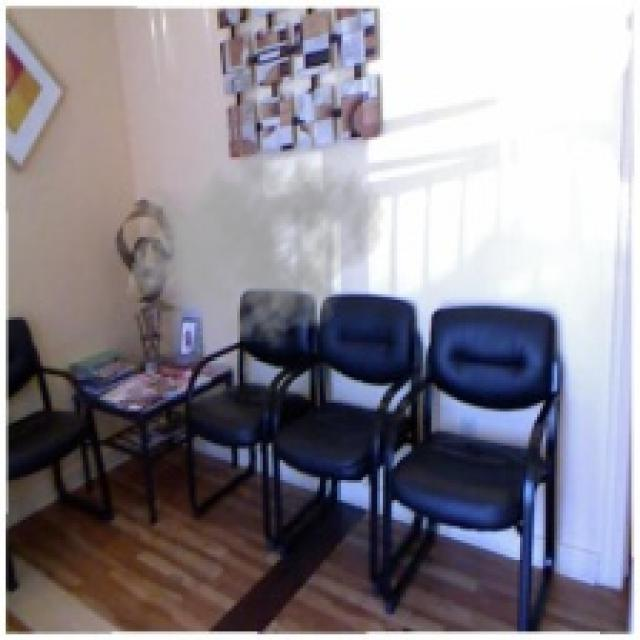smoke: (126, 134, 386, 352)
